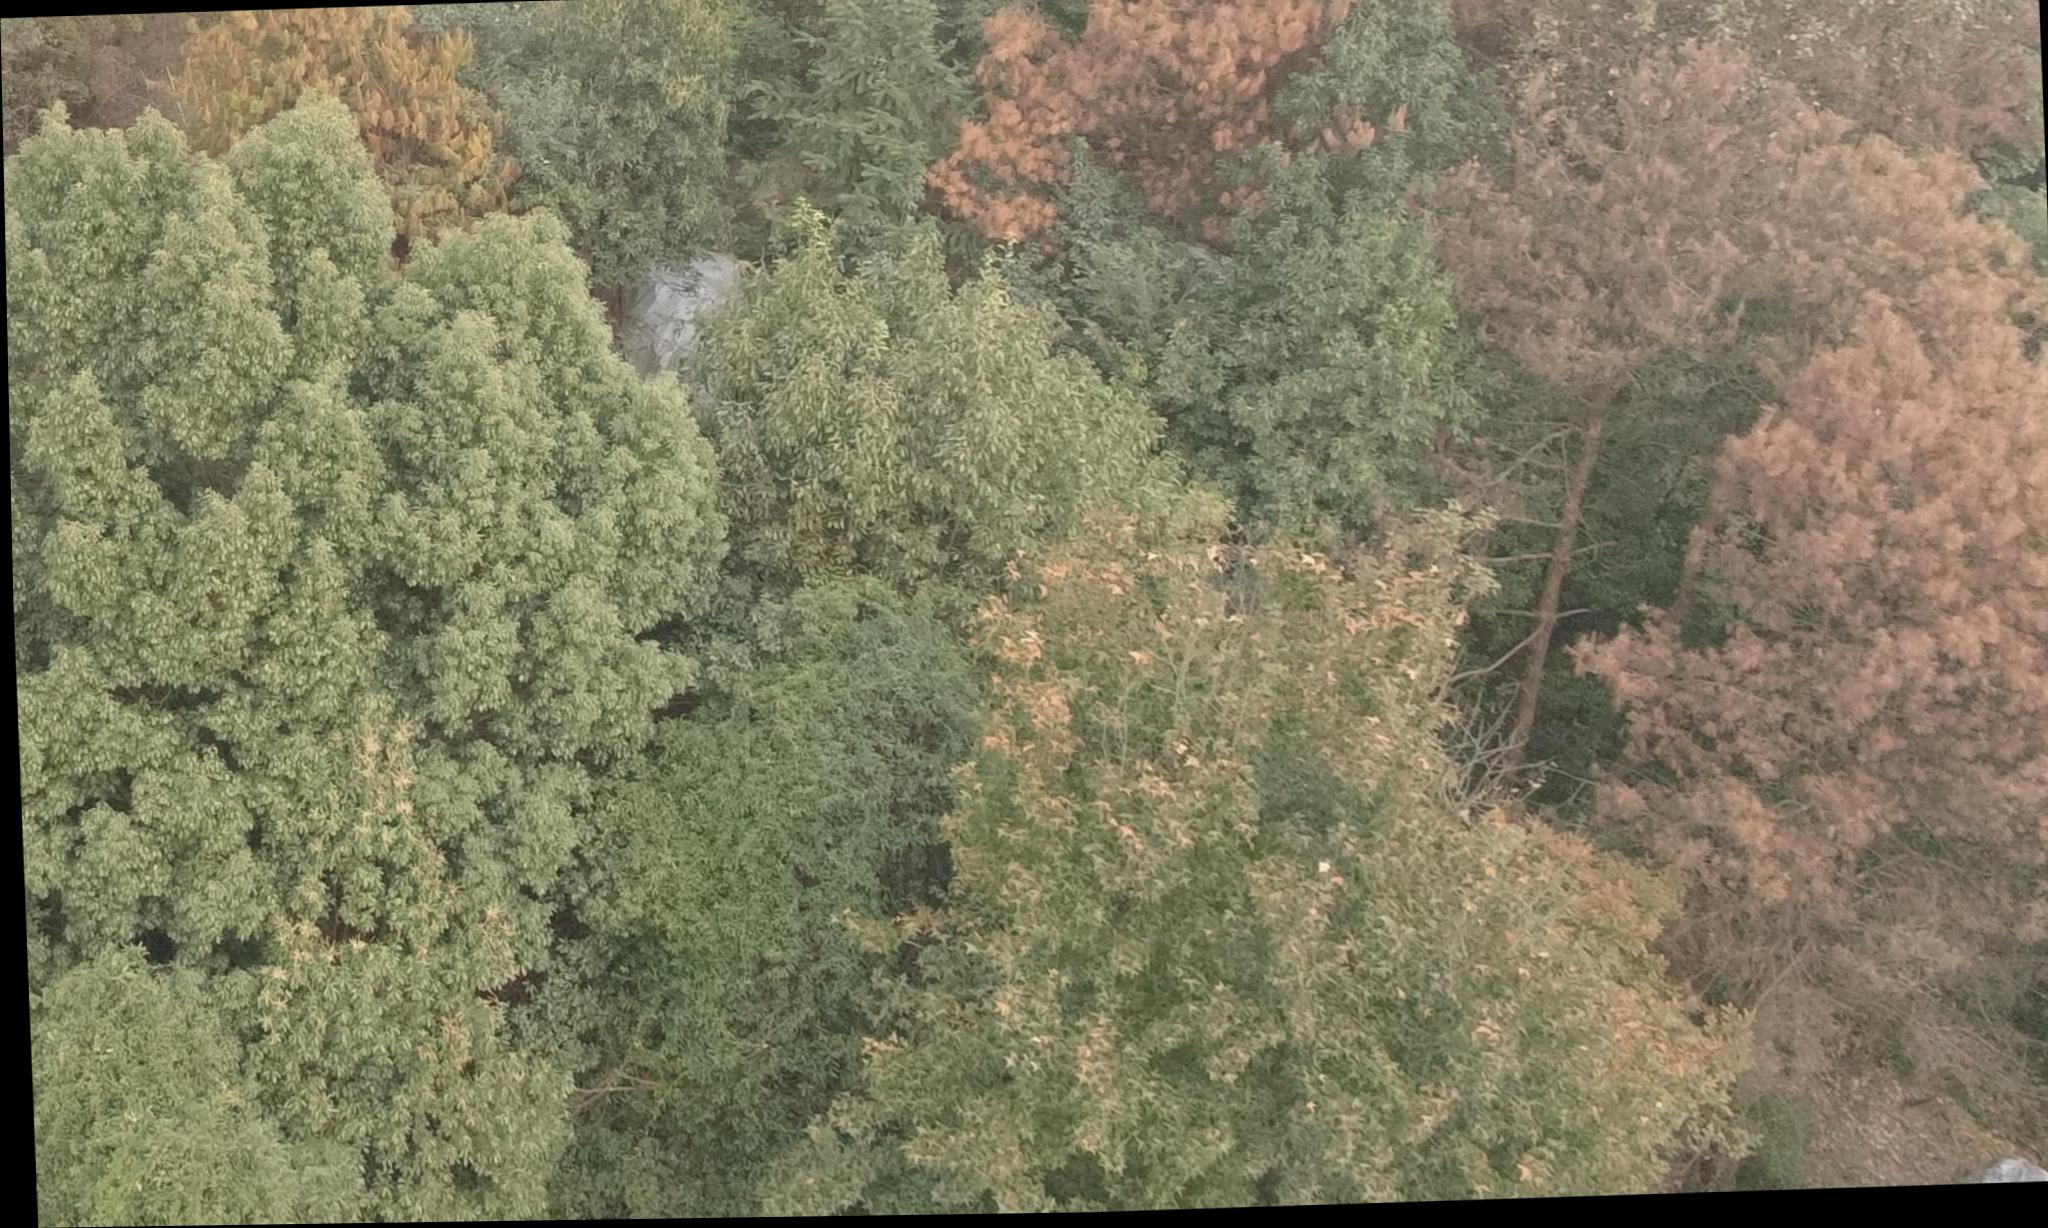heavy: (1585, 351, 2048, 952), (1436, 39, 1953, 354), (934, 0, 1359, 241)
light: (180, 12, 506, 232)
